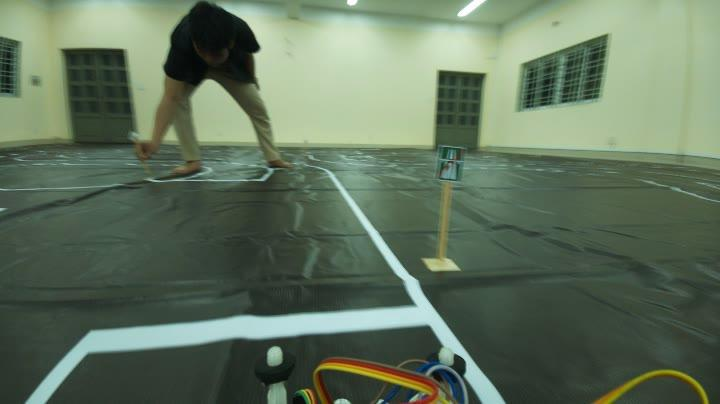highway_exit: (430, 141, 470, 187)
